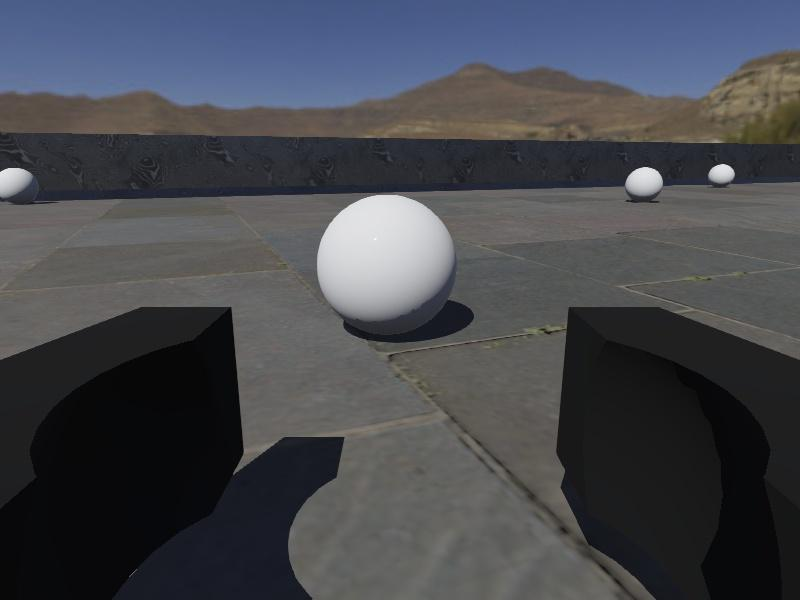white ball: (315, 195, 458, 338), (0, 167, 40, 206), (625, 165, 664, 202), (708, 162, 736, 188)
